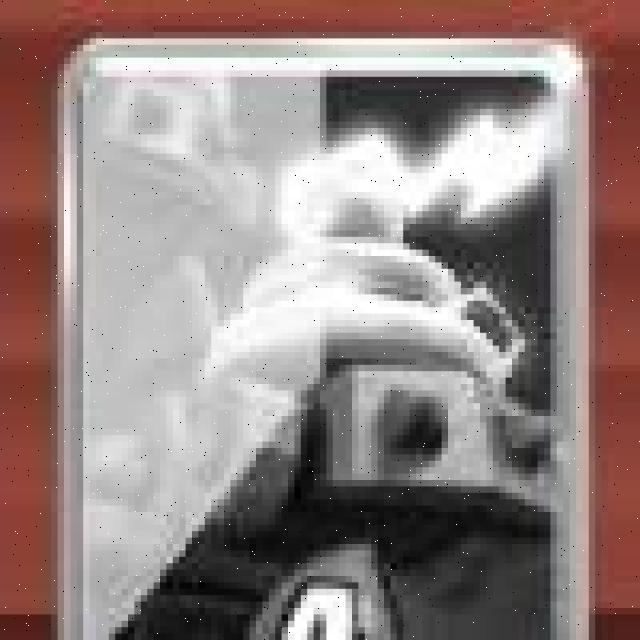Zappies: (61, 53, 581, 640)
